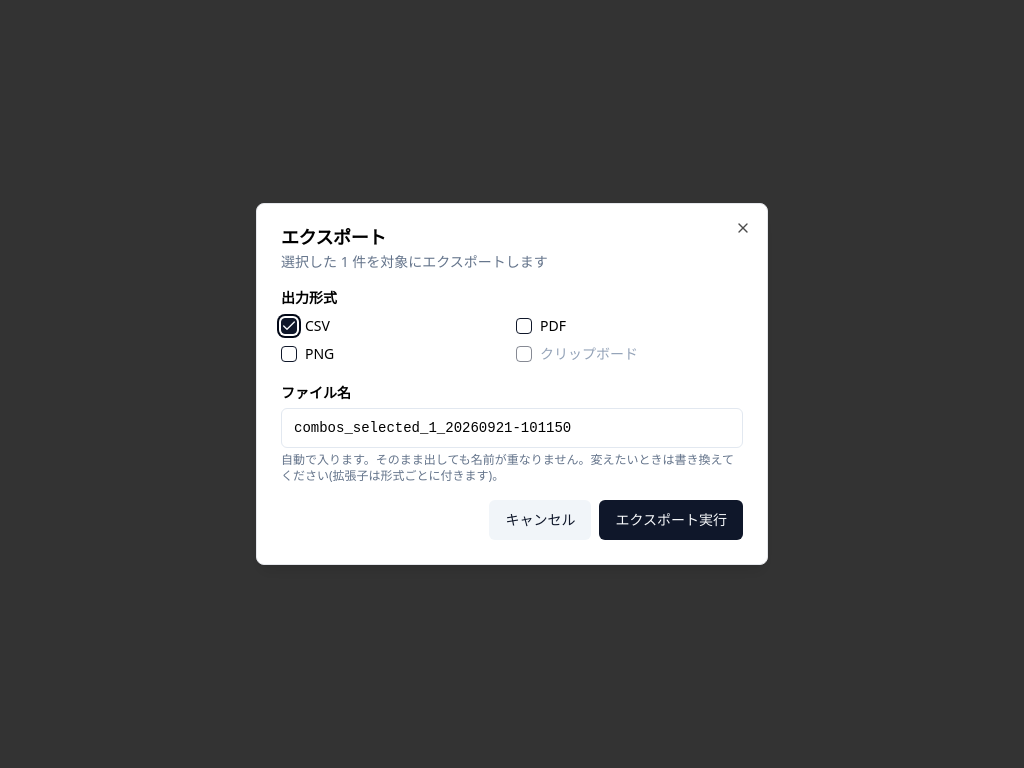
Scenario: ExportDialog › PDF を選択すると出力項目が表示され、既定で全項目 ON
Click the checkbox with test id "export-format-pdf". click: (524, 326)
box: x1=516 y1=318 x2=532 y2=334
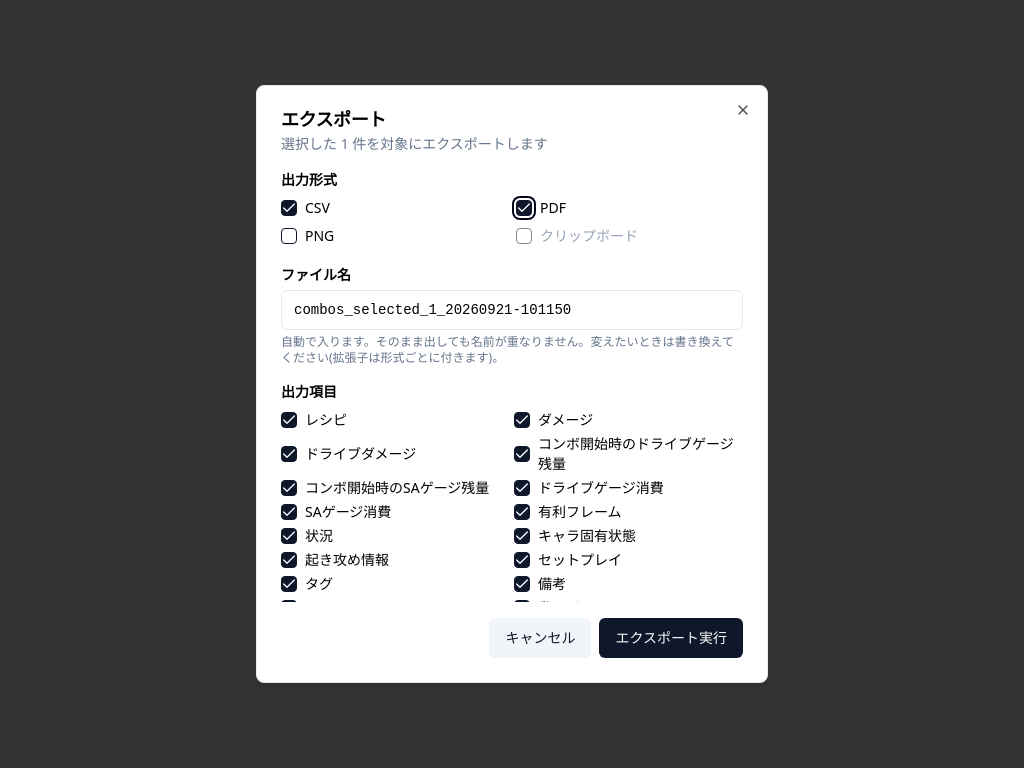
Expected: the text "出力項目" is shown, x1=281 y1=382 x2=337 y2=402
